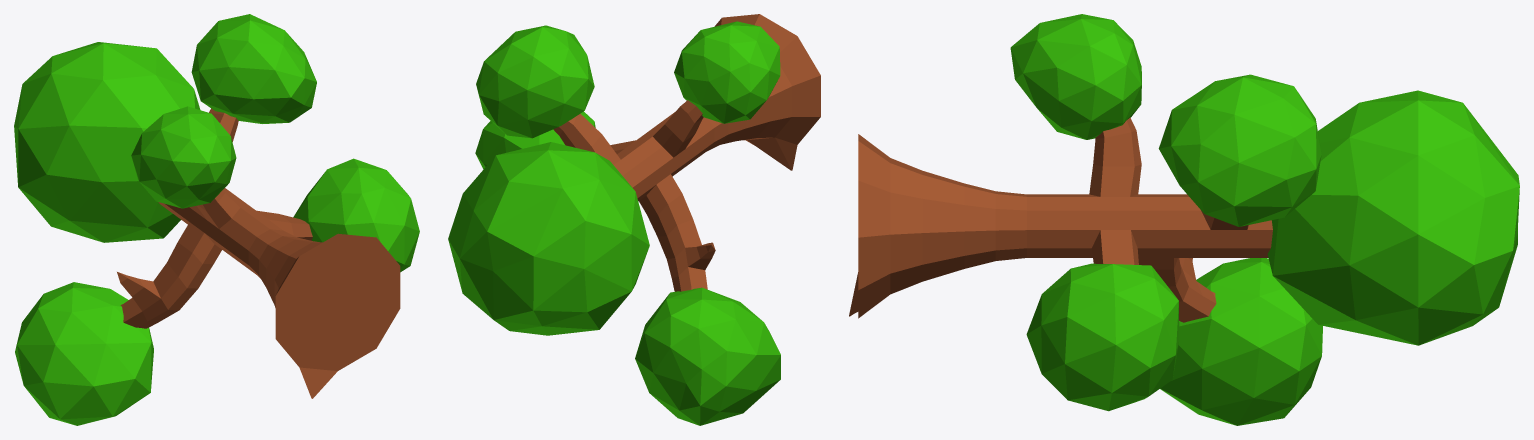
The model's file is arvore003.fbx.
The picture shows the model from 3 angles, left to right: view 1: azimuth 30°, elevation 25°; view 2: azimuth 150°, elevation 25°; view 3: azimuth 270°, elevation 25°; orthographic projection. The views are drawn at different scales.
Visible parts, largest first — view 1: Cylinder; view 2: Cylinder; view 3: Cylinder.
Part boxes in pixels (x1,y1,x2,y2): Cylinder: (14,14,419,425); Cylinder: (448,14,820,425); Cylinder: (849,14,1519,425).
Bounding box in the file's own units: 562 × 575 × 788.
